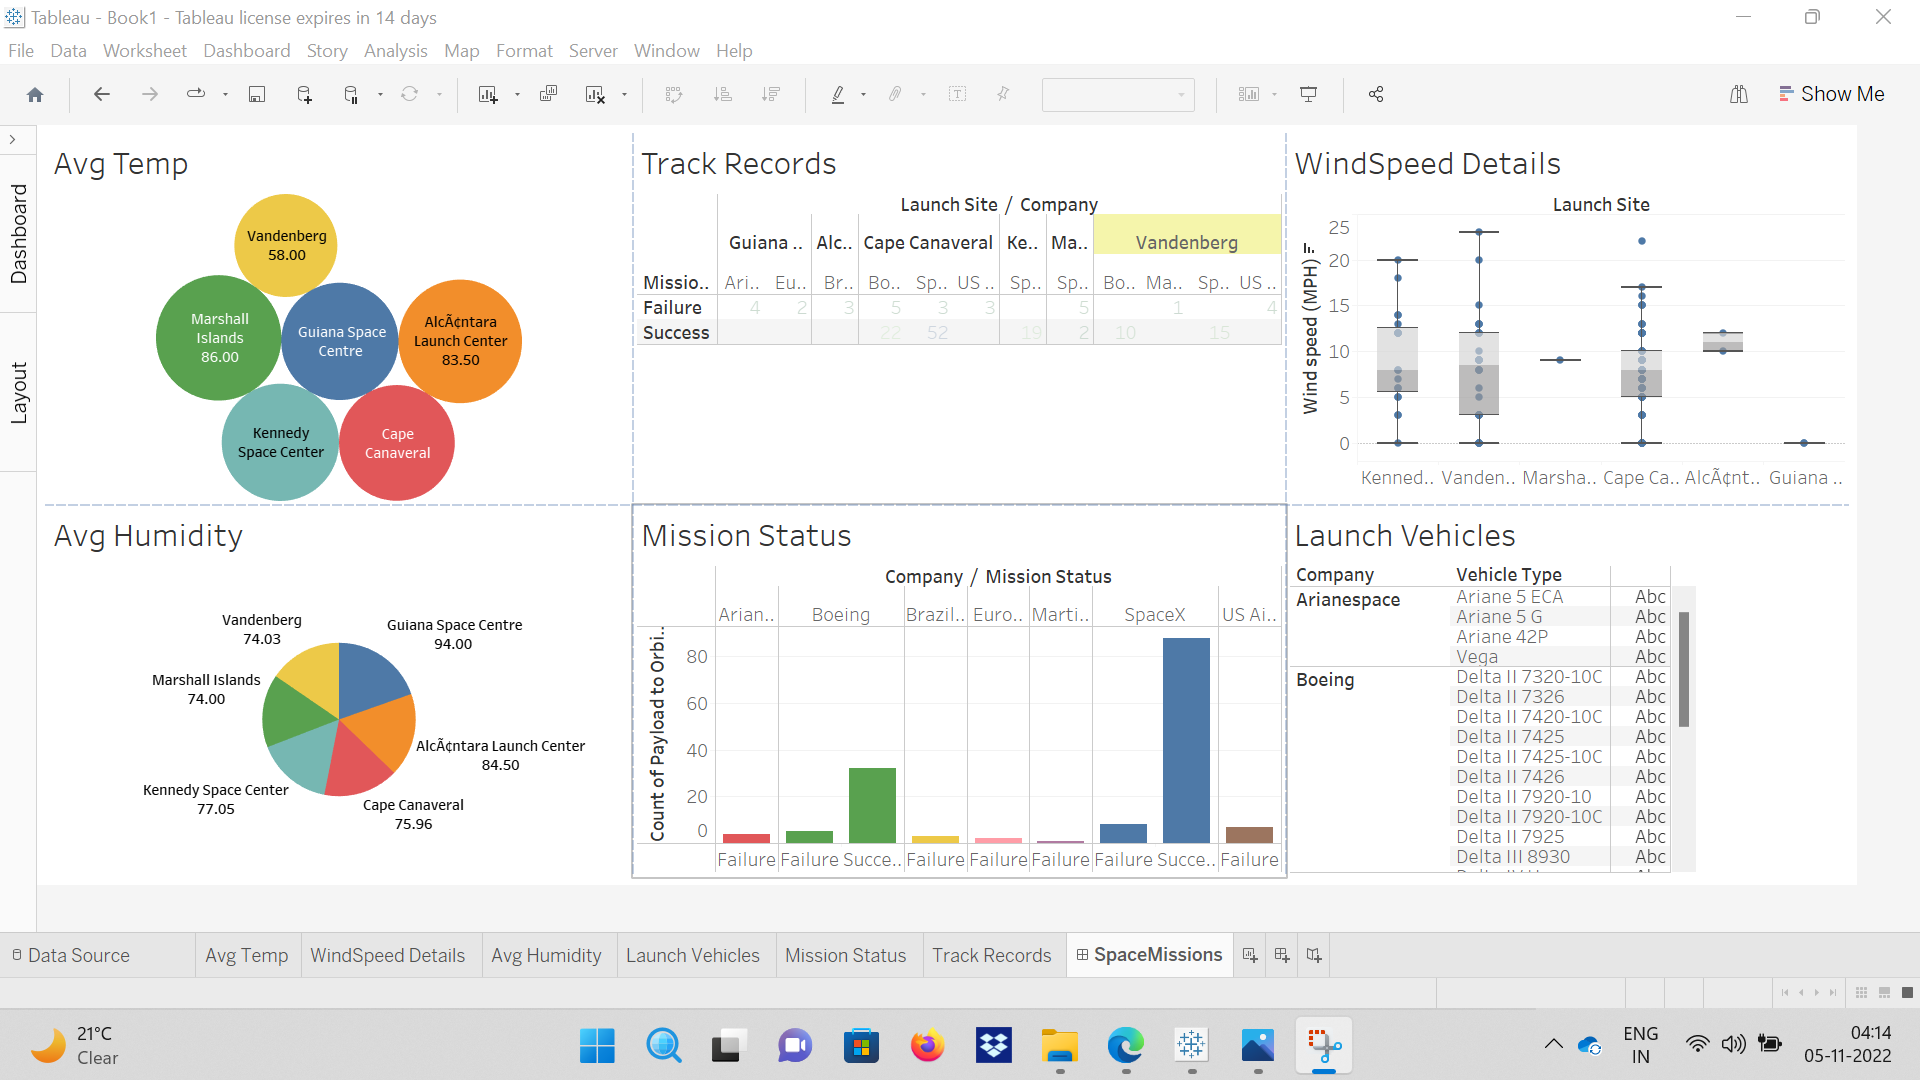

This screenshot's page, from the dashboard's own definition file:
{"tool":"tableau","page":{"name":"Dashboard 1","canvas":[1000,1000],"units":"permille","ordinal":0},"visuals":[{"type":"worksheet","title":"Launch Sites Temperatures ","mark":"Circle","box":[6.1,10.5,299.2,526.3]},{"type":"worksheet","title":"Launch Site Humidity","mark":"Pie","box":[305.3,10.5,284.9,526.3]},{"type":"worksheet","title":"Launch Site Wind Speeds","mark":"Circle","rows":["Wind speed (MPH)"],"cols":["Launch Site"],"box":[590.1,10.5,282.6,526.3]},{"type":"legend","title":"Launch Sites Temperatures ","param":"[federated.0tz2zm20zb5jv916h346p1mg1msx].[none:Launch Site:nk]","box":[872.7,10.5,121.2,205.3]},{"type":"legend","title":"Launch Site Humidity","param":"[federated.0tz2zm20zb5jv916h346p1mg1msx].[avg:Humidity (%):qk]","box":[872.7,215.8,121.2,67.1]},{"type":"legend","title":"Mission Status","param":"[federated.0tz2zm20zb5jv916h346p1mg1msx].[none:Company:nk]","box":[872.7,282.9,121.2,232.9]},{"type":"legend","title":"Track Records","param":"[federated.0tz2zm20zb5jv916h346p1mg1msx].[__tableau_internal_object_id__].[cnt:S","box":[872.7,515.8,121.2,96.1]},{"type":"worksheet","title":"Launch Vehicle Details","mark":"Automatic","rows":["Company","Vehicle Type"],"box":[6.1,536.8,299.2,452.6]},{"type":"worksheet","title":"Mission Status","mark":"Automatic","rows":["Payload to Orbit (kg)"],"cols":["Company","Mission Status"],"box":[305.3,536.8,284.9,452.6]},{"type":"worksheet","title":"Track Records","mark":"Square","rows":["Mission Status"],"cols":["Launch Site","Company"],"box":[590.1,536.8,282.6,452.6]}]}

Visuals, with their boxes on the dashboard's canvas, which has no fixed pixel size, in thousandths of its width and height (x1, y1, x2, y2). These are canvas units, not pixel positions in the 1920x1080 screenshot, which may show the page scaled, cropped or inside an application window:
"Launch Sites Temperatures " worksheet (Circle marks): BBox(6, 10, 305, 537)
"Launch Site Humidity" worksheet (Pie marks): BBox(305, 10, 590, 537)
"Launch Site Wind Speeds" worksheet (Circle marks): BBox(590, 10, 873, 537)
"Launch Sites Temperatures " legend: BBox(873, 10, 994, 216)
"Launch Site Humidity" legend: BBox(873, 216, 994, 283)
"Mission Status" legend: BBox(873, 283, 994, 516)
"Track Records" legend: BBox(873, 516, 994, 612)
"Launch Vehicle Details" worksheet: BBox(6, 537, 305, 989)
"Mission Status" worksheet: BBox(305, 537, 590, 989)
"Track Records" worksheet (Square marks): BBox(590, 537, 873, 989)
